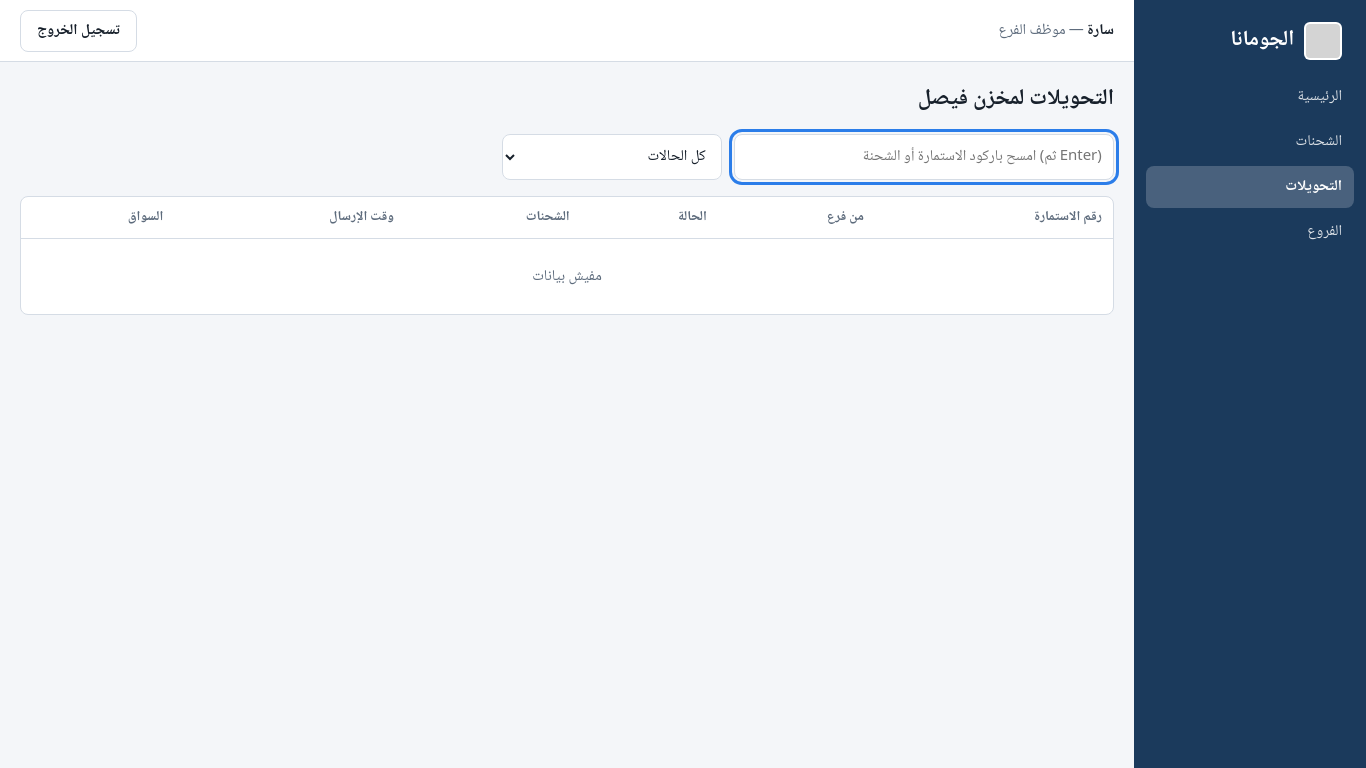
Test: transfers list › says so when no open form matches the scanned code
Type "NOPE" into the field named "الباركود".
click(924, 157); type("NOPE")  # box [734,134,1114,180]
Then press Enter
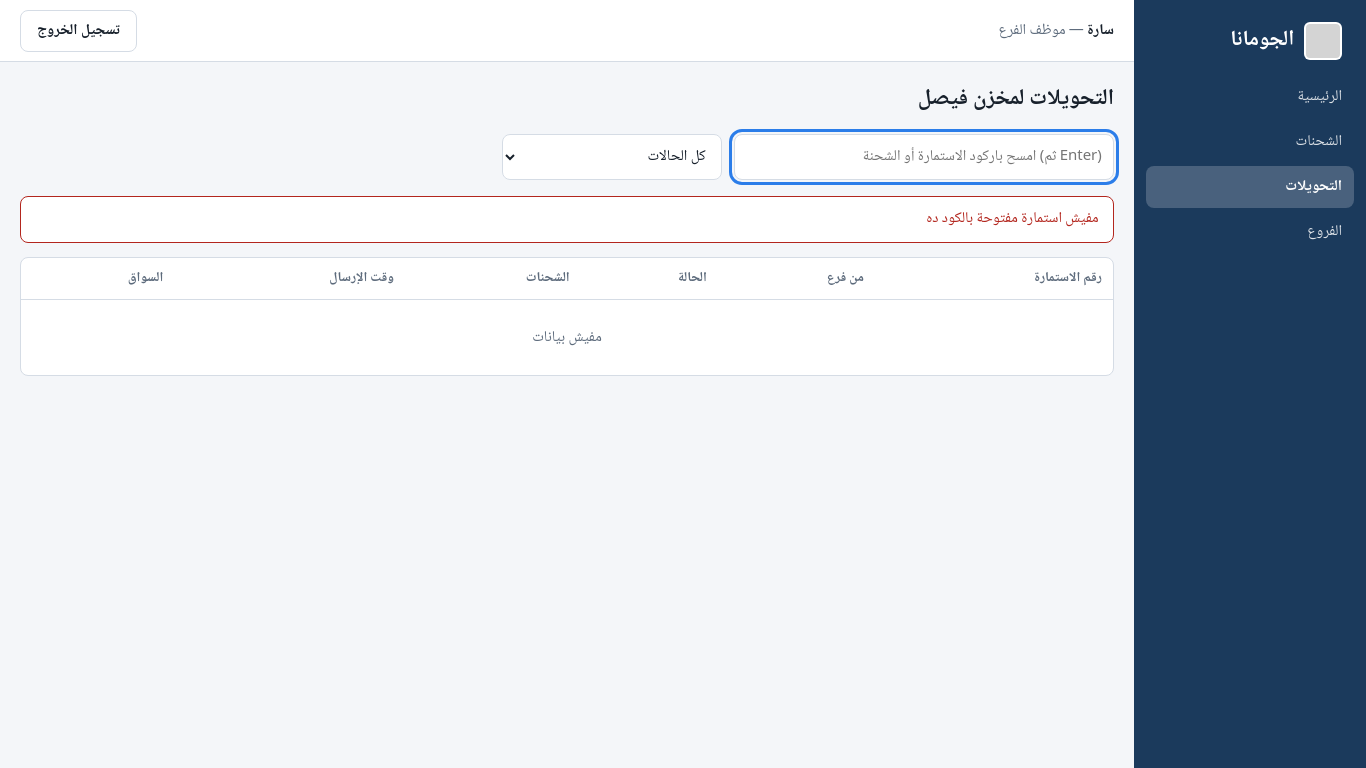
Now the text "مفيش استمارة مفتوحة بالكود ده" is shown, box [20,196,1114,243]
